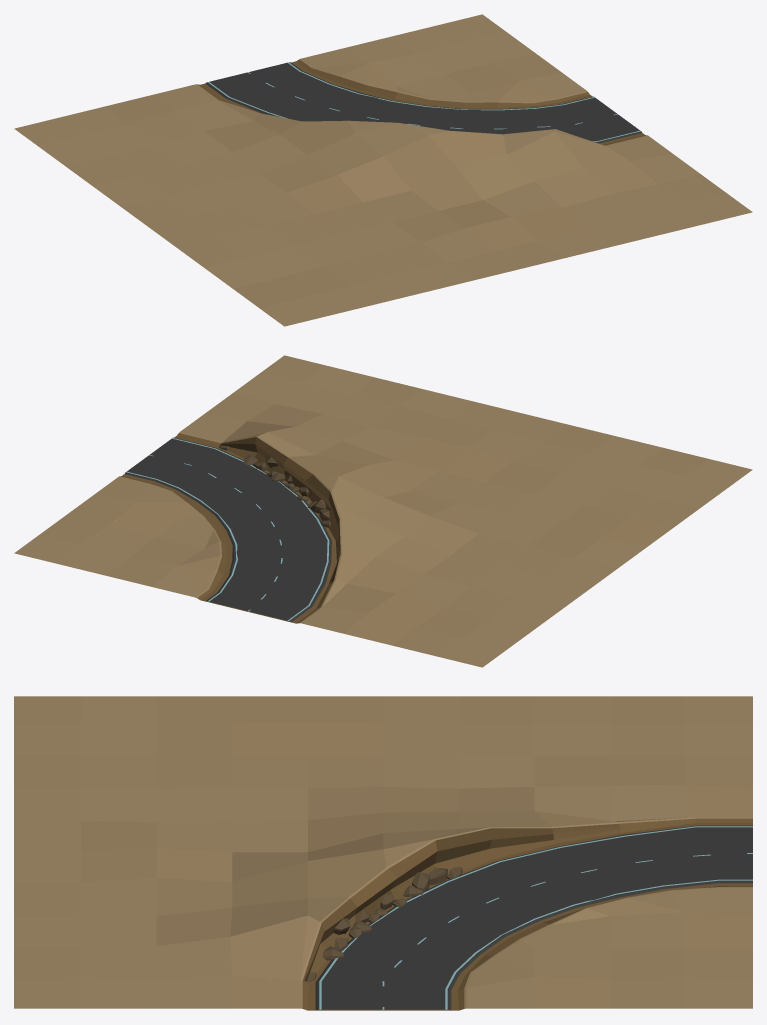
File: model_road_dirt_cornor_2.fbx
The picture shows the model from 3 angles, top to bottom: view 1: azimuth 30°, elevation 25°; view 2: azimuth 150°, elevation 25°; view 3: azimuth 270°, elevation 25°; orthographic projection. The views are drawn at different scales.
Visible parts, largest first — view 1: model_road_dirt_cornor_2; view 2: model_road_dirt_cornor_2; view 3: model_road_dirt_cornor_2.
Part boxes in pixels (bbox=[...]): model_road_dirt_cornor_2: bbox=[14, 14, 752, 326]; model_road_dirt_cornor_2: bbox=[14, 355, 752, 667]; model_road_dirt_cornor_2: bbox=[14, 696, 752, 1010].
Size of the model in its own units: 6000 by 421 by 6000.
Materials: 1 (1 with a texture image).
